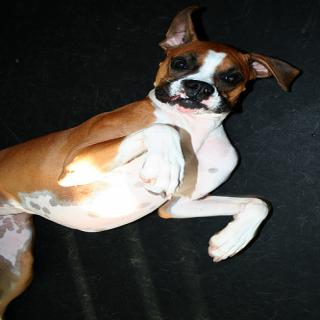dog: (7, 3, 293, 293)
